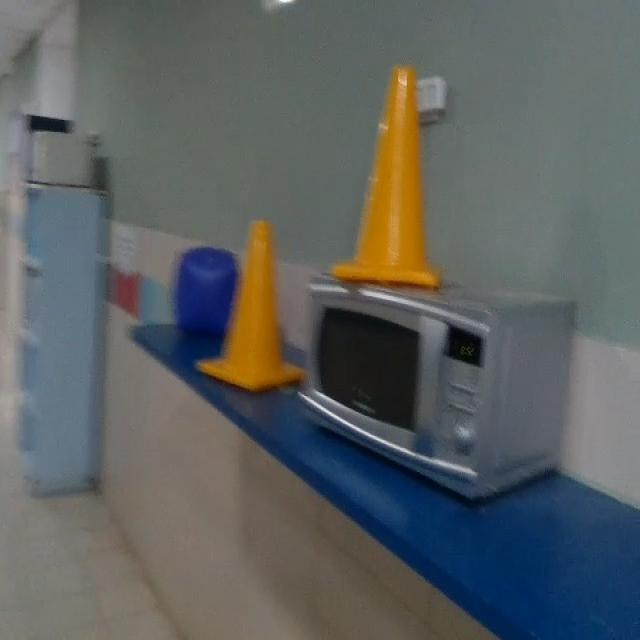cone: (332, 64, 442, 290), (197, 220, 304, 399)
cube: (175, 246, 241, 344)
